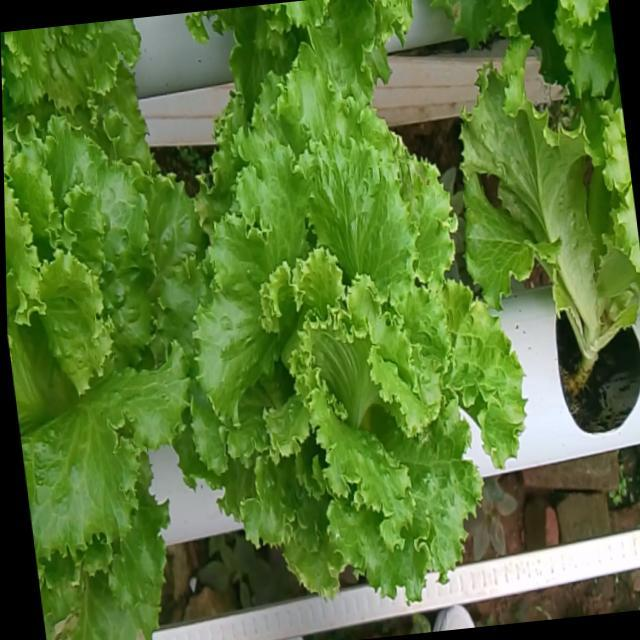Mature: (184, 81, 519, 617), (4, 128, 198, 578)
